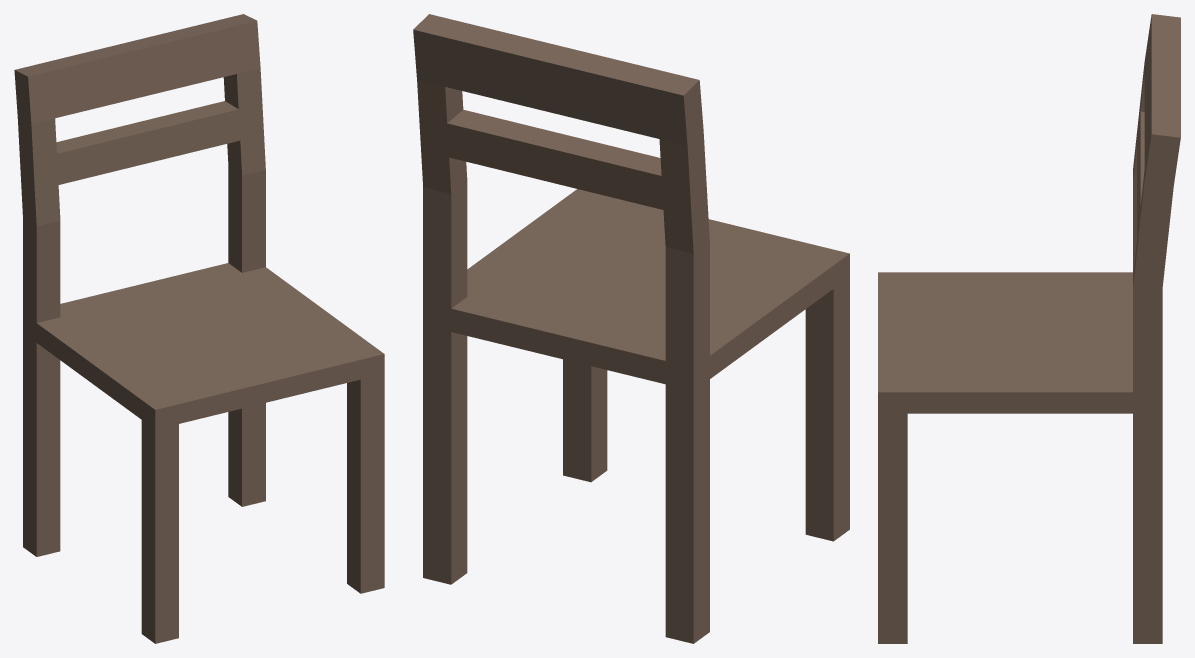
Rendered from Chair_05.fbx.
3 renders of one model, left to right at view 1: azimuth 30°, elevation 25°; view 2: azimuth 150°, elevation 25°; view 3: azimuth 270°, elevation 25°, orthographic. The views are drawn at different scales.
Visible parts, largest first — view 1: Chair_05; view 2: Chair_05; view 3: Chair_05.
Part boxes in pixels (x1,y1,x2,y2): Chair_05: [14, 14, 384, 643]; Chair_05: [413, 14, 849, 643]; Chair_05: [878, 14, 1180, 643].
Size of the model in its own units: 50.09 by 99 by 53.3.
